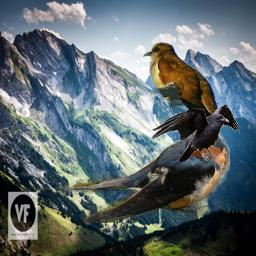Crow: (151, 104, 240, 162)
Cuckoo: (143, 42, 219, 132)
Swallow: (53, 125, 230, 223)
